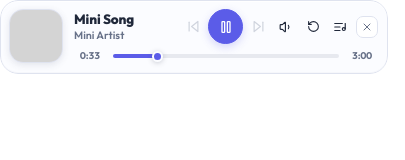
Test: MiniPlayerApp › uses forwarded playback status for renderer-owned Spotify playback
Expected: the button named "暂停" is shown, [208, 9, 243, 44]
Step 1. Click the button with class "mini-player-volume-toggle" → (286, 26), box [275, 16, 297, 38]
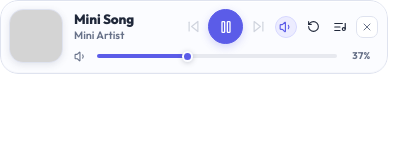
Now the slider named "音量" holds "0.37", box [97, 47, 337, 65]
